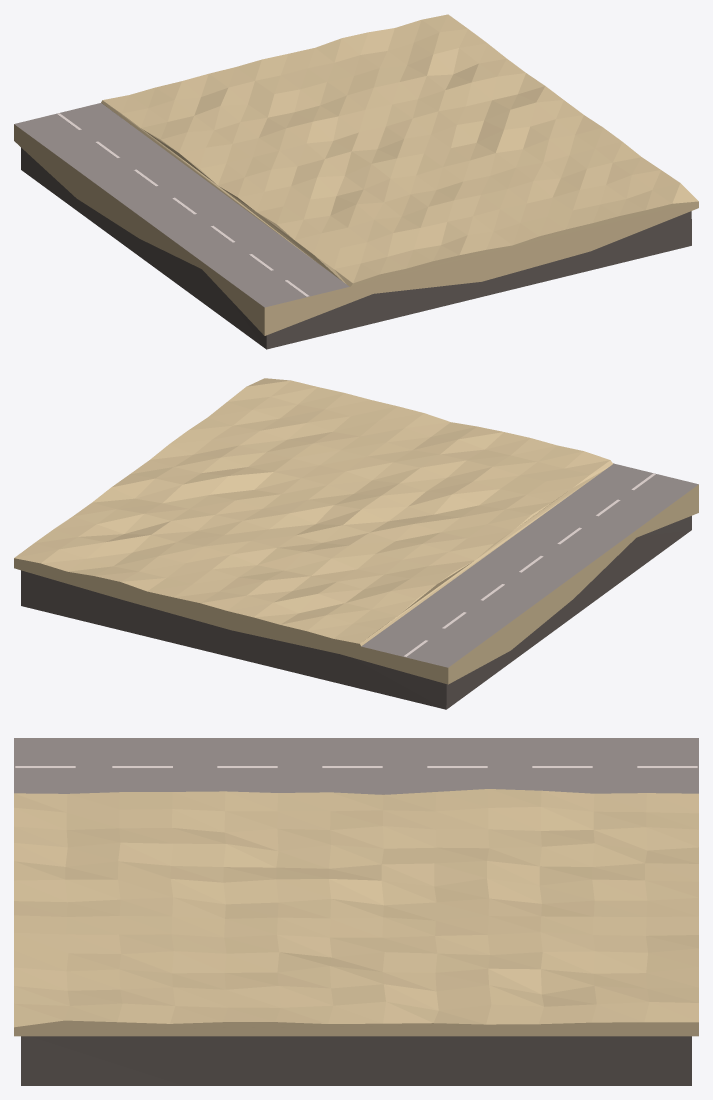
3 views of the same model, one above another, from view 1: azimuth 30°, elevation 25°; view 2: azimuth 150°, elevation 25°; view 3: azimuth 270°, elevation 25° (orthographic). The views are drawn at different scales.
Visible parts, largest first — view 1: Base; view 2: Base; view 3: Base.
Part boxes in pixels (x1,y1,x2,y2): Base: (14,14,698,349); Base: (14,378,698,709); Base: (14,738,698,1085).
Bounding box in the file's own units: 10002 × 1127 × 10000.
